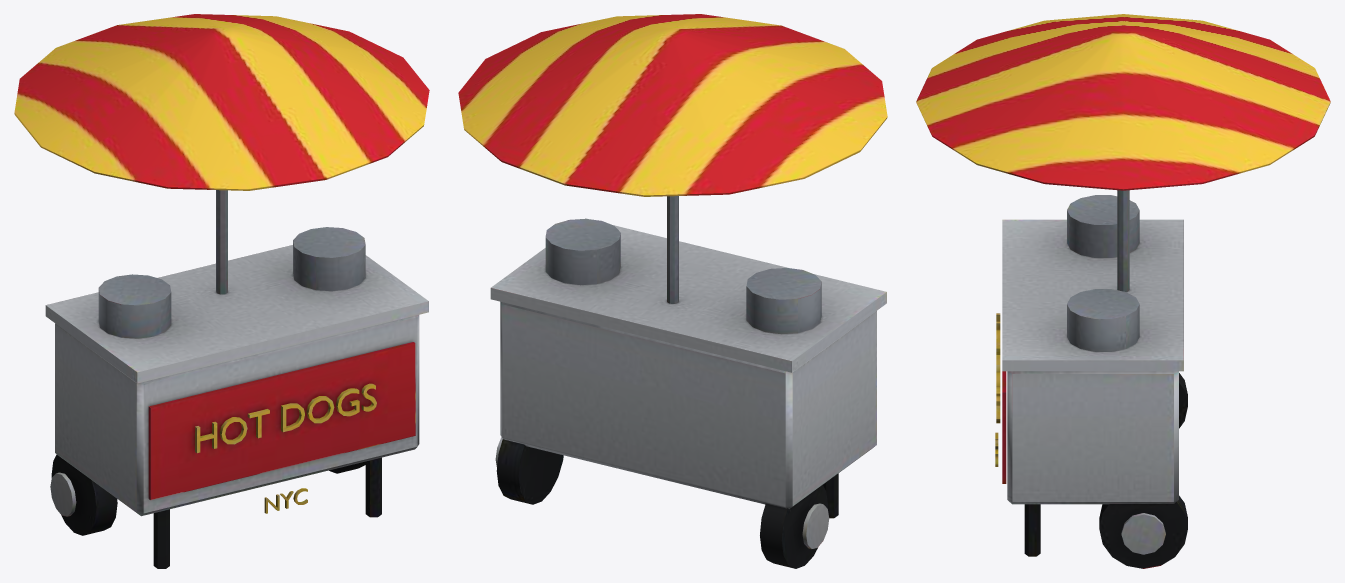
Rendered from perritos.glb.
3 views of the same model, side by side, from view 1: azimuth 30°, elevation 25°; view 2: azimuth 150°, elevation 25°; view 3: azimuth 270°, elevation 25° (orthographic). The views are drawn at different scales.
Visible parts, largest first — view 1: perritos; view 2: perritos; view 3: perritos.
Part boxes in pixels (x1,y1,x2,y2): perritos: (14, 14, 429, 568); perritos: (458, 14, 887, 568); perritos: (916, 14, 1330, 568).
Bounding box in the file's own units: 2.05 × 2.56 × 2.05.
1 material, 1 textured.
